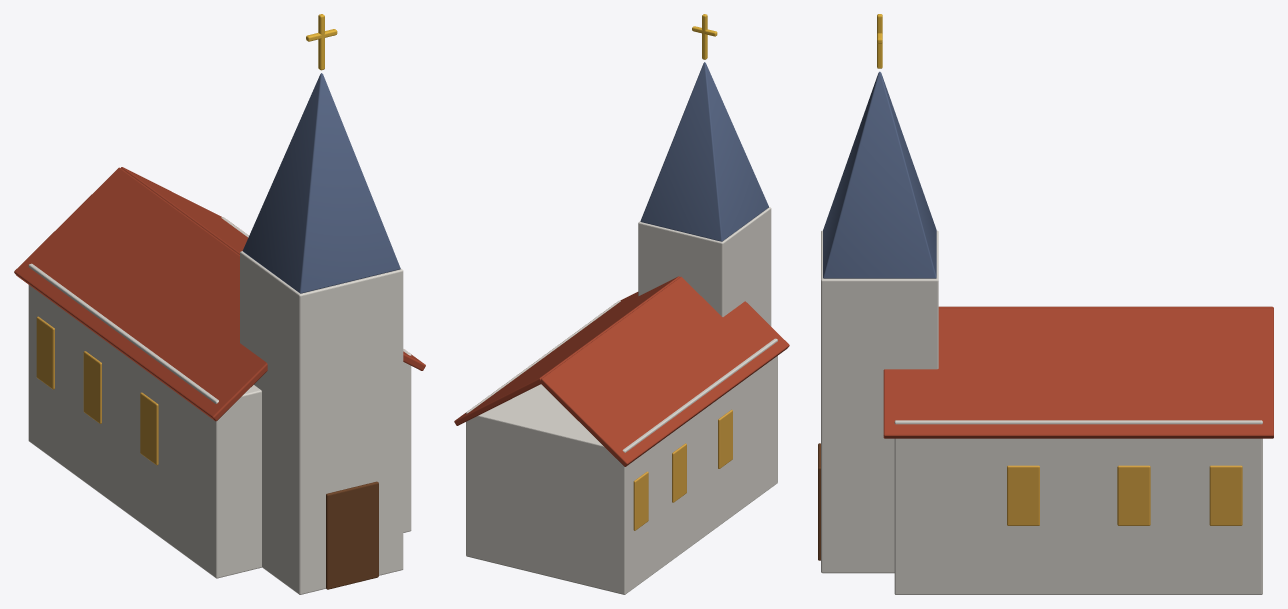
File: church.glb
The picture shows the model from 3 angles, left to right: view 1: azimuth 30°, elevation 25°; view 2: azimuth 150°, elevation 25°; view 3: azimuth 270°, elevation 25°; orthographic projection. The views are drawn at different scales.
Parts seen in each view (by area): view 1: church; view 2: church; view 3: church.
Part boxes in pixels (left/top/right/bottom): church: left=14, top=14, right=425, bottom=594; church: left=454, top=14, right=789, bottom=594; church: left=818, top=14, right=1273, bottom=594.
Bounding box in the file's own units: 6.54 × 16 × 12.38.
